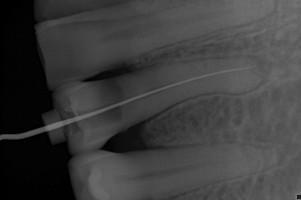Furcation Involvement: (254, 54, 272, 74)
